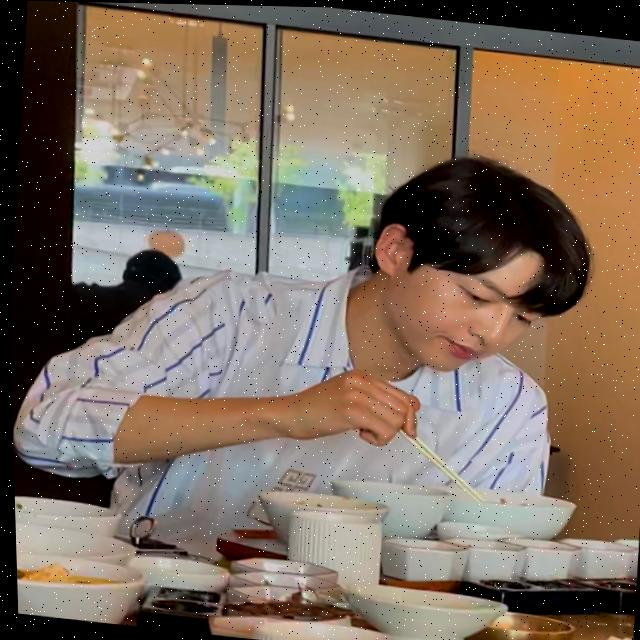eating-person: (2, 76, 640, 617)
